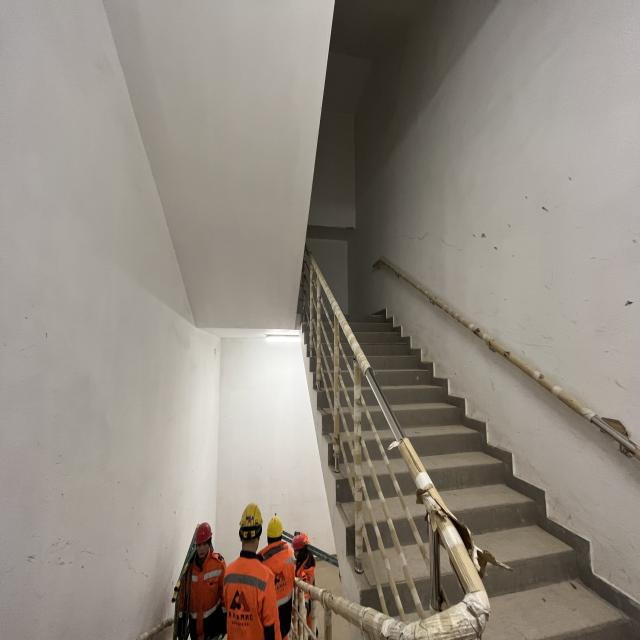Helmet: (241, 504, 265, 532), (196, 524, 214, 546), (268, 518, 284, 539), (292, 537, 305, 551)
Jacket: (228, 558, 269, 628), (190, 554, 222, 618), (267, 547, 297, 601), (299, 558, 316, 584)
